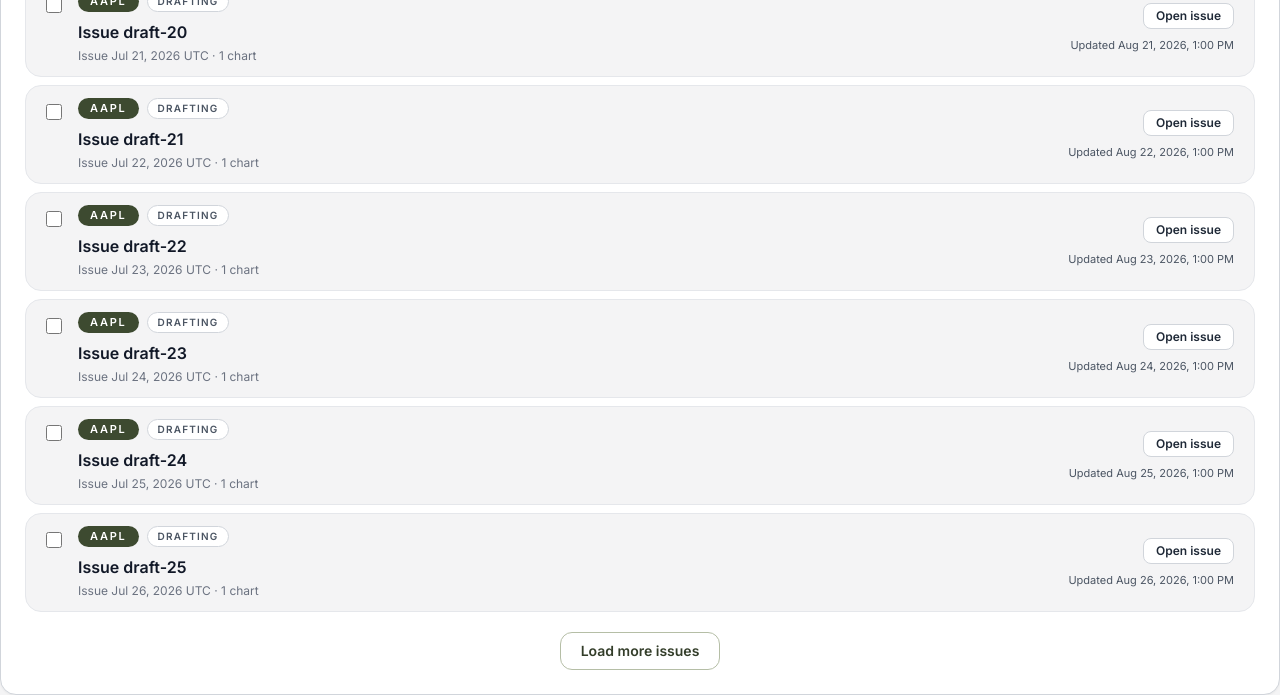
Test: NewsletterDraftsHome › mounts only fetched cursor pages and announces when results are exhausted
(page scrolled)
Expected: the text "Last loaded issue" is not shown
Click the button "Load more issues" at (640, 651), box [560, 632, 720, 670]
(page scrolled)
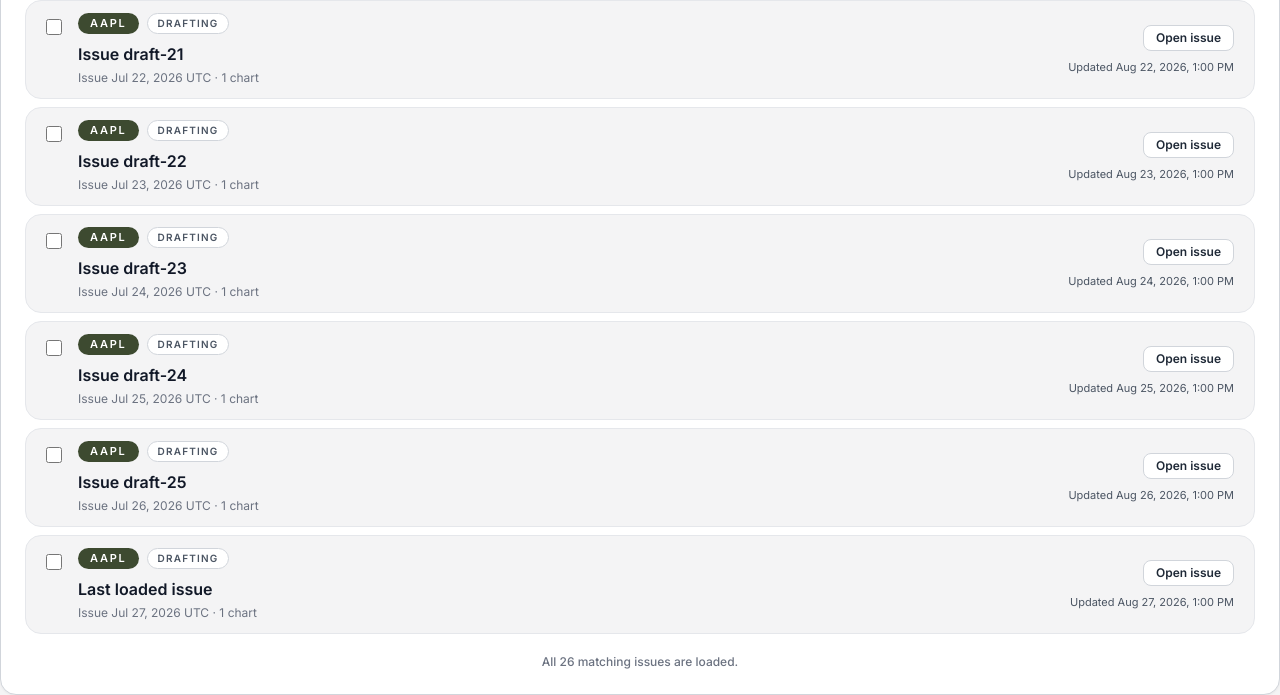
Now the link "Last loaded issue" is shown, box [78, 579, 212, 599]
Now the text "All 26 matching issues are loaded." is shown, box [542, 654, 738, 669]
